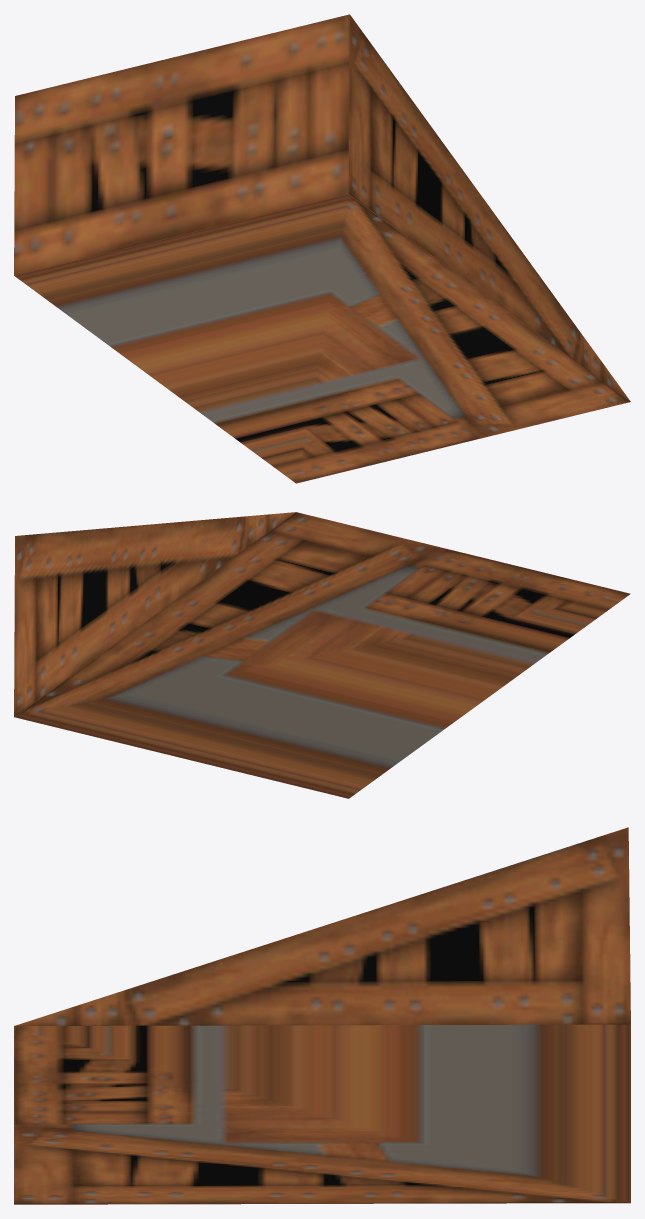
Rendered from RampsNEW04.glb.
3 views of the same model, one above another, from view 1: azimuth 30°, elevation 25°; view 2: azimuth 150°, elevation 25°; view 3: azimuth 270°, elevation 25° (orthographic). The views are drawn at different scales.
Visible parts, largest first — view 1: RampsNEW04; view 2: RampsNEW04; view 3: RampsNEW04.
Boxes of the visible parts, left/top/right/bottom form: RampsNEW04: left=14, top=14, right=630, bottom=483; RampsNEW04: left=14, top=512, right=630, bottom=798; RampsNEW04: left=14, top=827, right=630, bottom=1204.
Bounding box in the file's own units: 249 × 129 × 363.
1 material, 1 textured.
